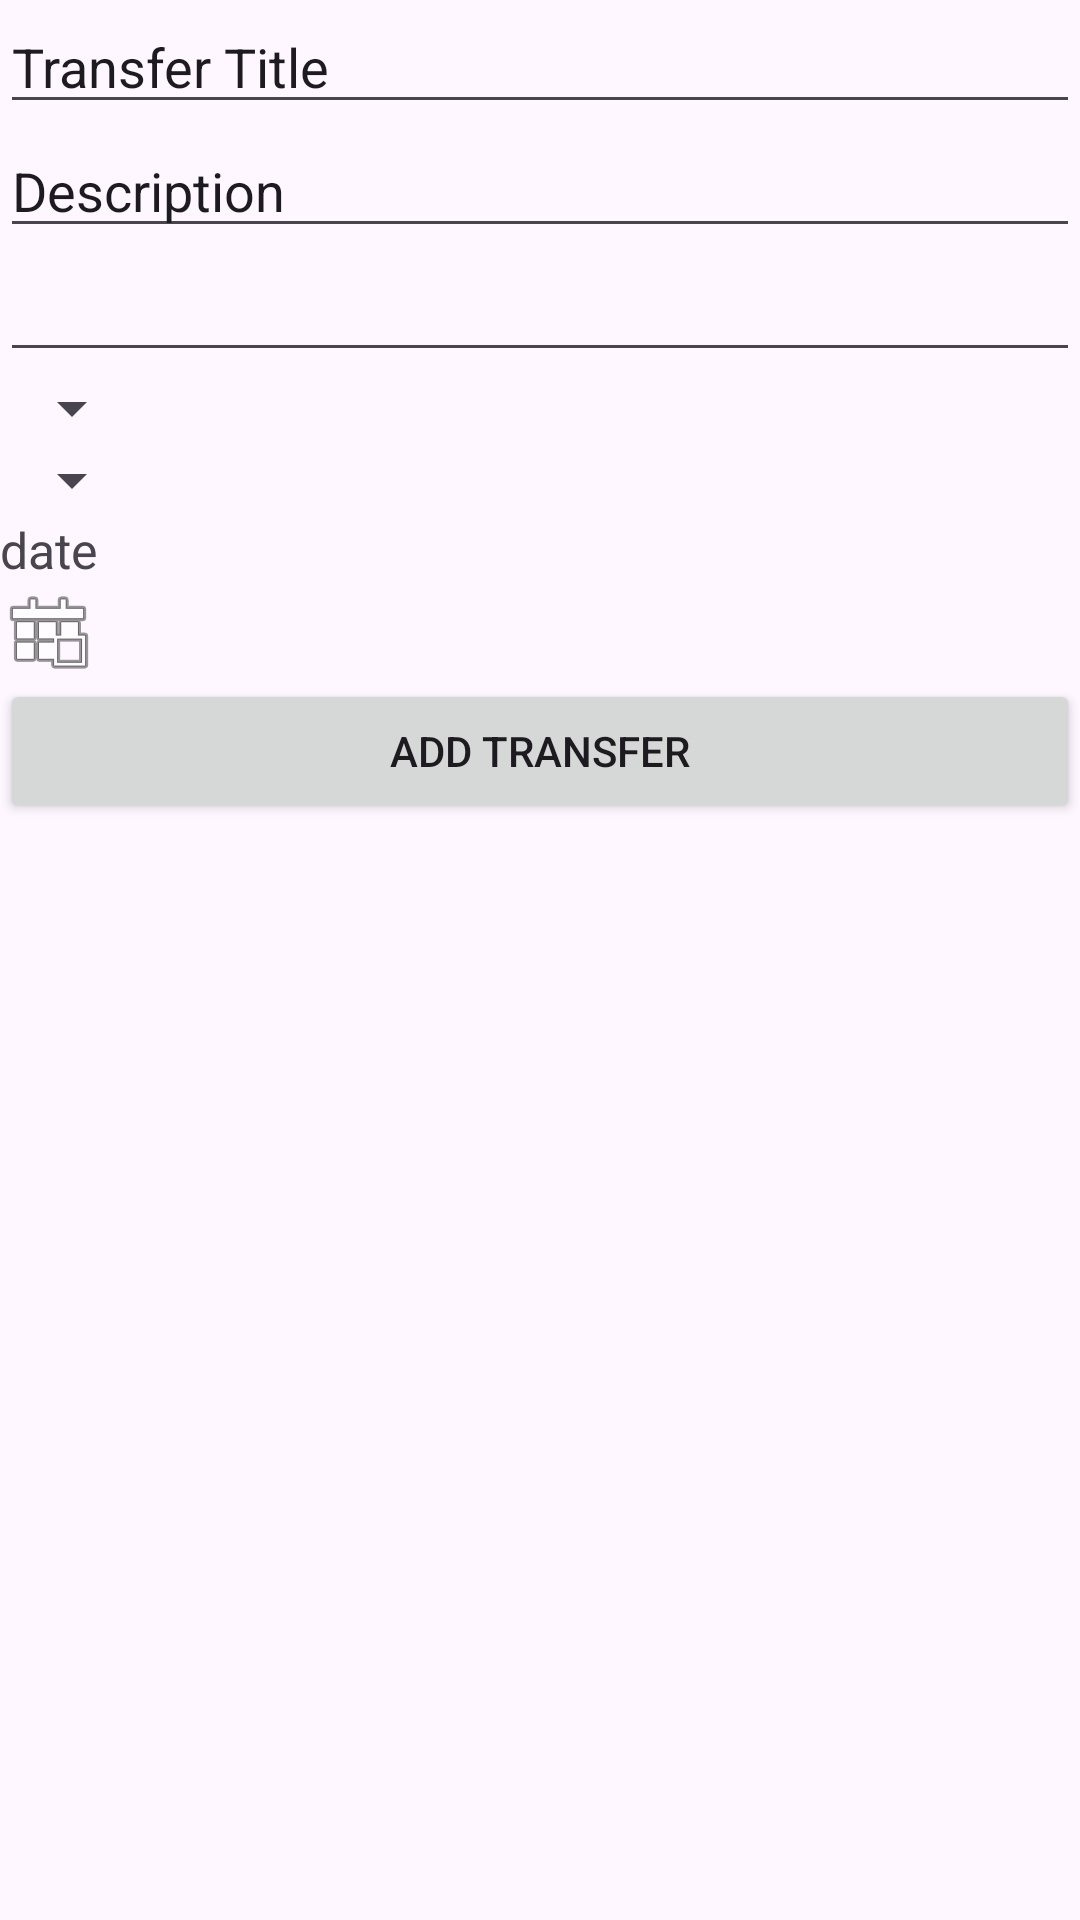

Point at icon controls on the screen. Image size 1080×1920, points as point (x, y).
today: point (49, 632)
